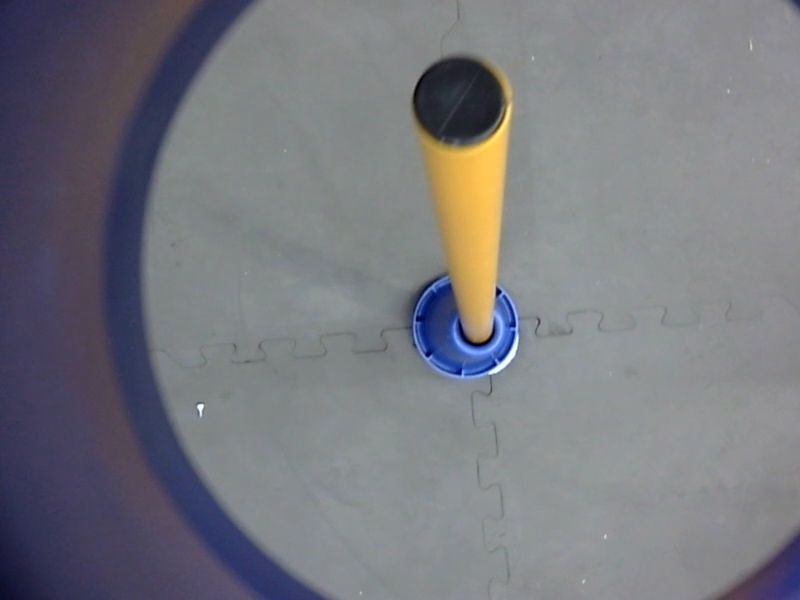tip: (407, 48, 517, 157)
